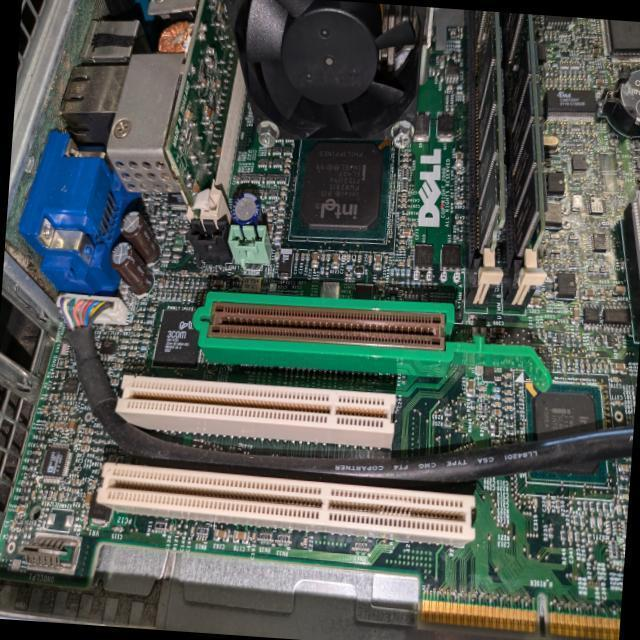CPU_Fan: (211, 0, 433, 160)
Mainboard: (0, 0, 640, 640)
RAM: (484, 12, 560, 260), (456, 10, 520, 252)
